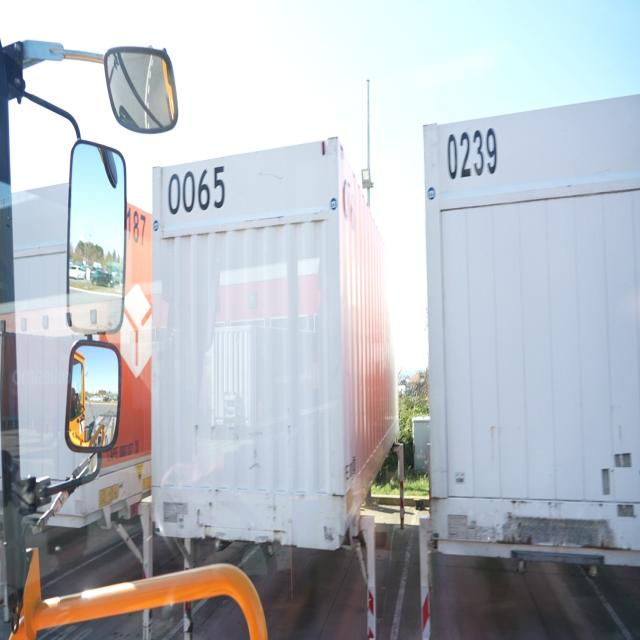Code: (166, 160, 228, 222), (442, 124, 501, 184)
